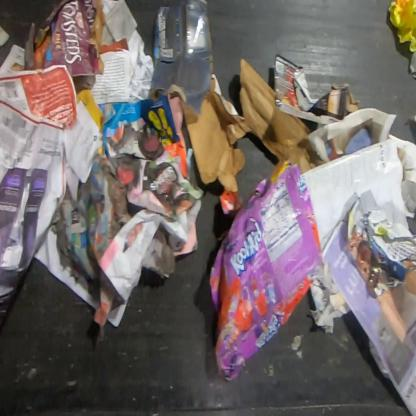cardboard: (207, 159, 324, 383), (182, 56, 326, 193), (272, 53, 362, 129), (32, 0, 107, 78)
